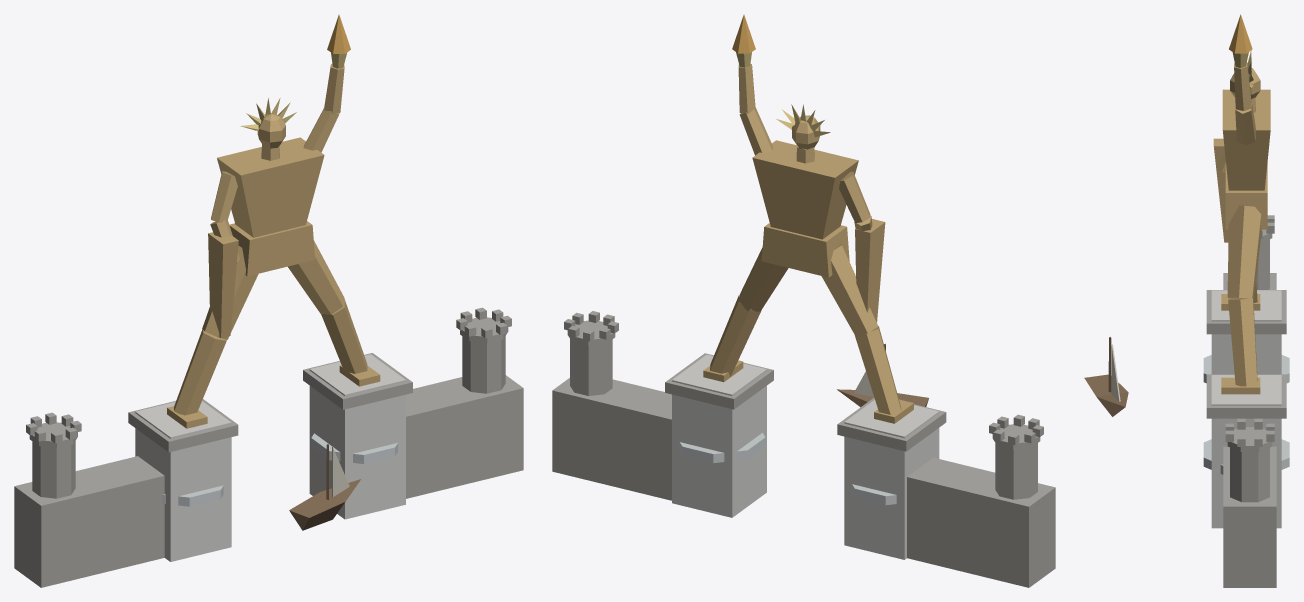
File: colossus.glb
The picture shows the model from 3 angles, left to right: view 1: azimuth 30°, elevation 25°; view 2: azimuth 150°, elevation 25°; view 3: azimuth 270°, elevation 25°; orthographic projection.
Visible parts, largest first — view 1: LOD0; view 2: LOD0; view 3: LOD0.
Part boxes in pixels (<box>): LOD0: <box>14,14,523,587</box>; LOD0: <box>552,14,1055,587</box>; LOD0: <box>1084,14,1289,587</box>.
Size of what is drawn, in the model's own units: 1.66 by 1.62 by 0.6175.
